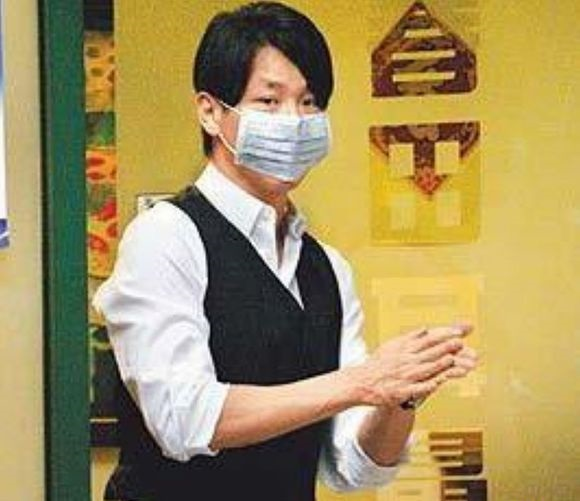face_mask: (228, 48, 331, 186)
